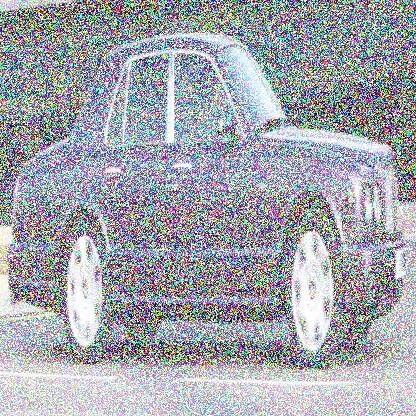Vehicle: (7, 40, 406, 367)
